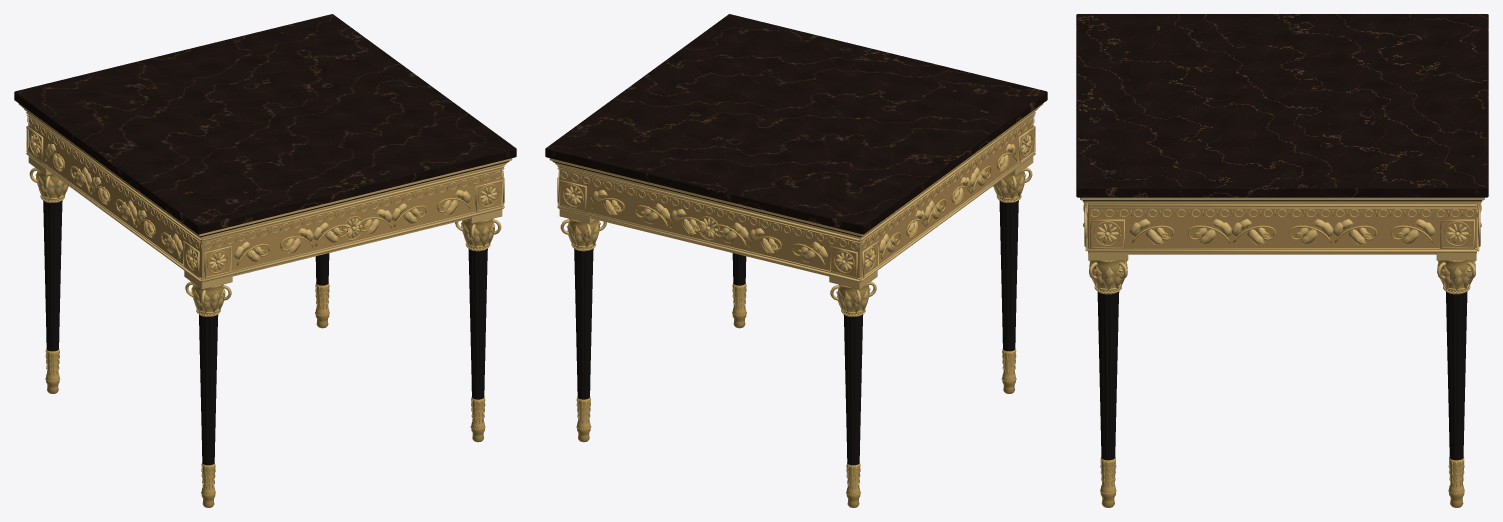
3 renders of one model, left to right at view 1: azimuth 30°, elevation 25°; view 2: azimuth 150°, elevation 25°; view 3: azimuth 270°, elevation 25°, orthographic. The views are drawn at different scales.
Parts seen in each view (by area): view 1: Trianon Emperor side table | salon-5 web batch; view 2: Trianon Emperor side table | salon-5 web batch; view 3: Trianon Emperor side table | salon-5 web batch.
Boxes of the visible parts, x1=… form: Trianon Emperor side table | salon-5 web batch: x1=14, y1=14, x2=516, y2=507; Trianon Emperor side table | salon-5 web batch: x1=545, y1=14, x2=1047, y2=507; Trianon Emperor side table | salon-5 web batch: x1=1076, y1=14, x2=1488, y2=507.
Size of the model in its own units: 0.71 by 0.63 by 0.71.
Materials: 6 (1 with a texture image).
